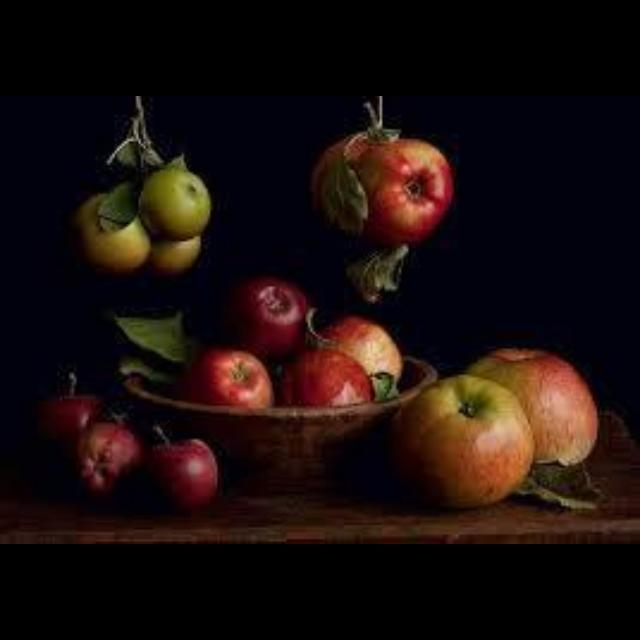apple: (389, 375, 533, 507), (466, 349, 597, 464), (224, 277, 306, 359), (74, 194, 148, 275), (139, 160, 210, 239), (181, 349, 272, 409), (320, 316, 401, 378), (76, 421, 141, 495), (148, 440, 215, 509)
